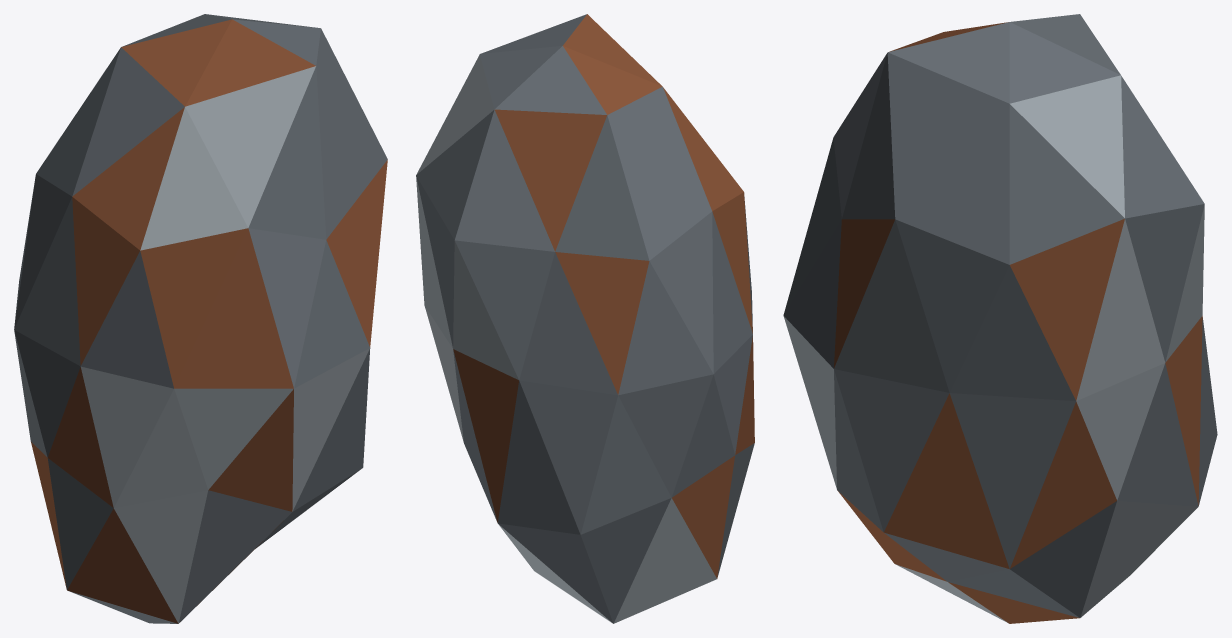
The picture shows the model from 3 angles, left to right: view 1: azimuth 30°, elevation 25°; view 2: azimuth 150°, elevation 25°; view 3: azimuth 270°, elevation 25°; orthographic projection. The views are drawn at different scales.
Parts seen in each view (by area): view 1: Iron_Fragment; view 2: Iron_Fragment; view 3: Iron_Fragment.
Part boxes in pixels (box(x1,y1,x2,y2)): Iron_Fragment: box(14, 14, 387, 623); Iron_Fragment: box(416, 14, 754, 623); Iron_Fragment: box(783, 14, 1217, 623).
Bounding box in the file's own units: 0.4867 × 0.8448 × 0.5139.
